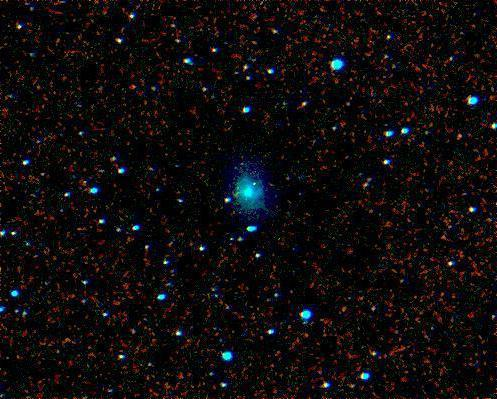star: (239, 169, 269, 199)
